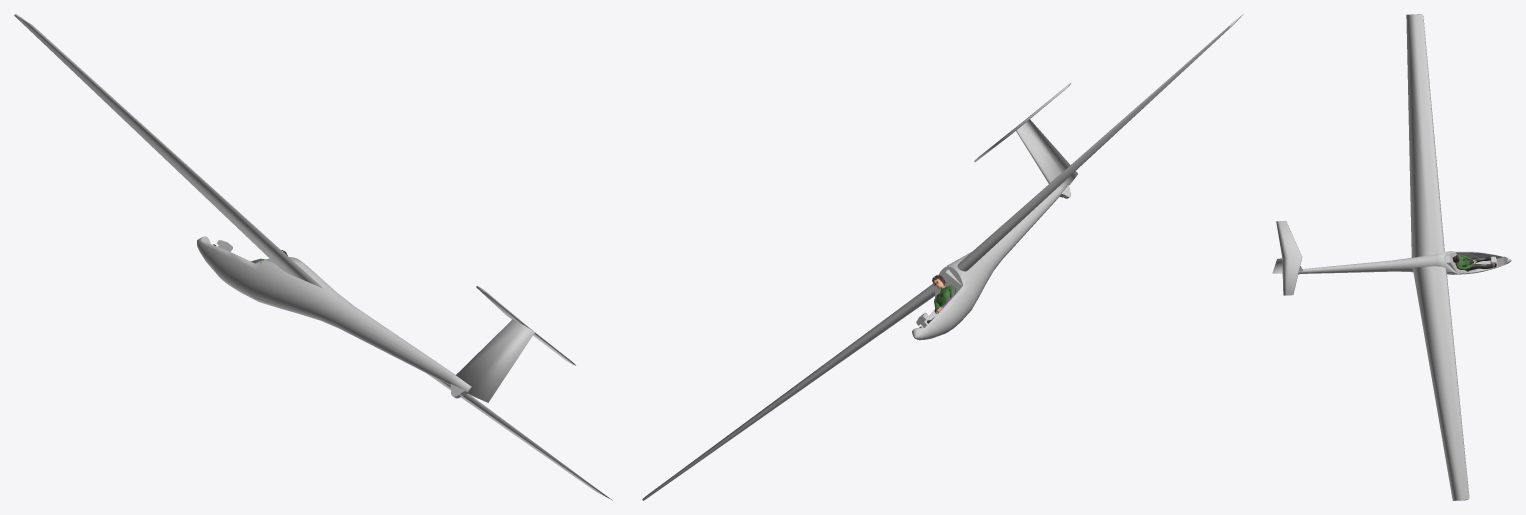
File: glider-orange-thermal-cbj_LOD00.gltf
3 views of the same model, side by side, from view 1: azimuth 30°, elevation 25°; view 2: azimuth 150°, elevation 25°; view 3: azimuth 270°, elevation 25° (orthographic). The views are drawn at different scales.
Visible parts, largest first — view 1: glider00; view 2: glider00; view 3: glider00.
Part boxes in pixels (bbox=[...]): glider00: bbox=[14, 14, 612, 500]; glider00: bbox=[642, 14, 1243, 500]; glider00: bbox=[1272, 14, 1511, 500].
Size of what is drawn, in the model's own units: 10.59 by 10.65 by 6.94.
